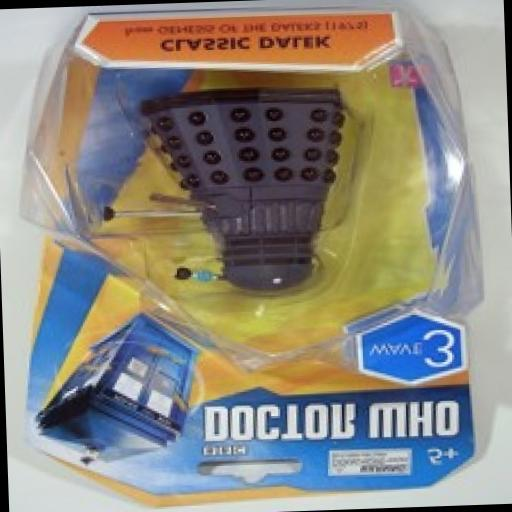dalek: (79, 82, 356, 300)
